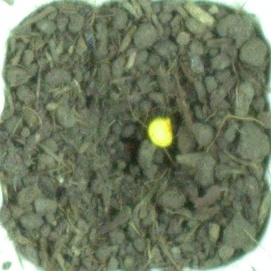chilli seed: (145, 115, 176, 148)
